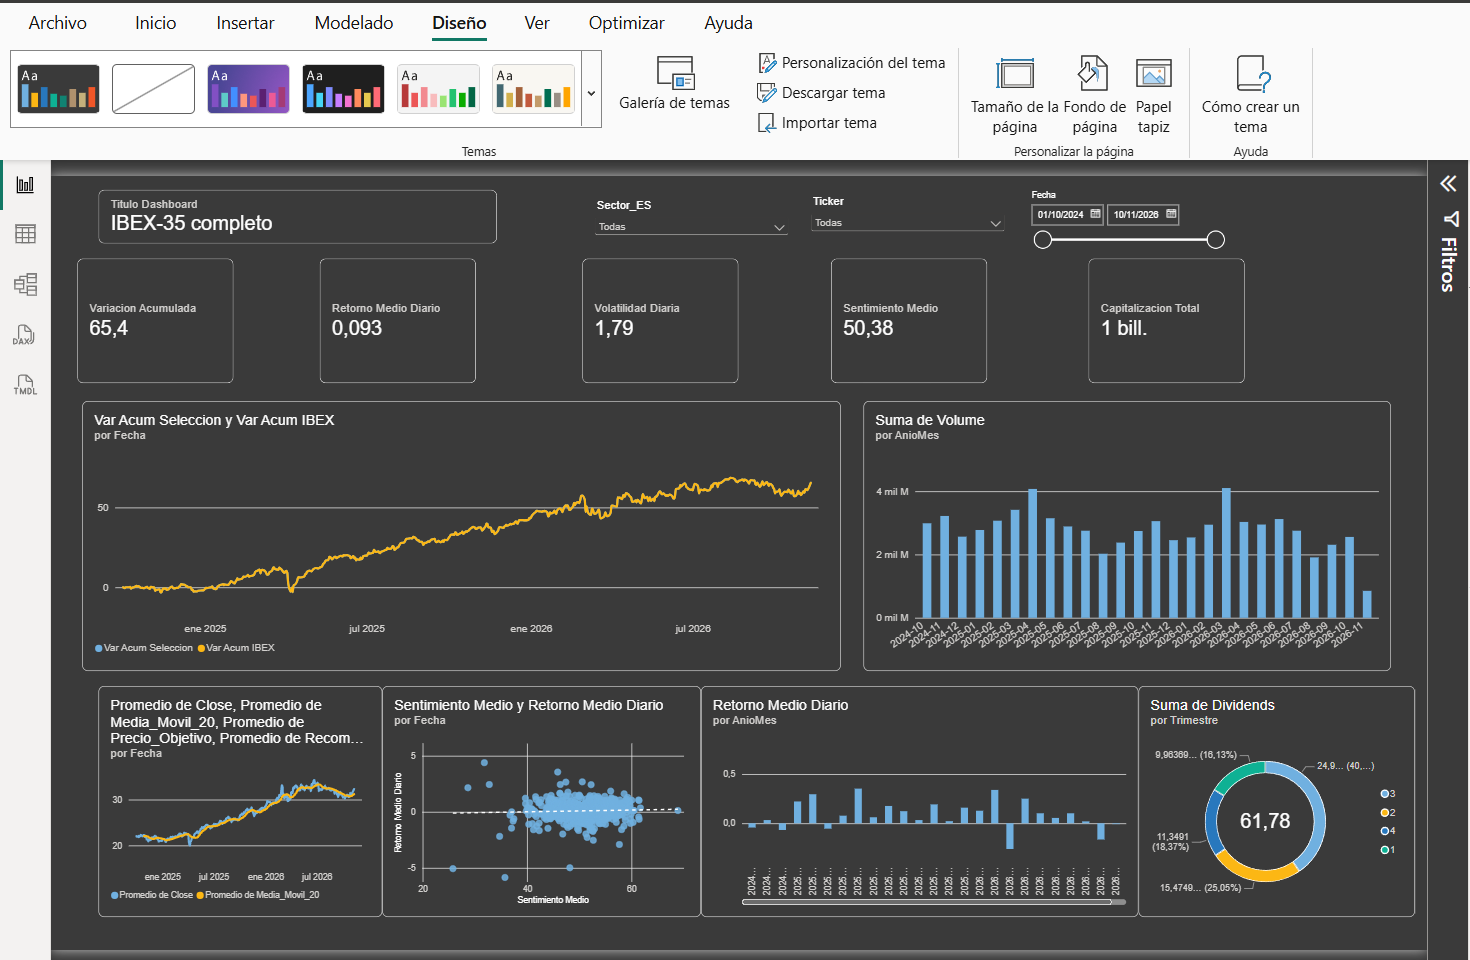

The page's visual inventory and layout, read from the dashboard file:
{"tool":"powerbi","page":{"name":"Dashboard","canvas":[1920,1080],"ordinal":3},"visuals":[{"type":"slicer","fields":{"Values":["Empresa.Sector_ES"]},"box":[753.5,31.4,280.8,68],"z":0},{"type":"slicer","fields":{"Values":["Empresa.Ticker"]},"box":[1055.2,26.2,280.8,80.2],"z":1000},{"type":"slicer","fields":{"Values":["Fecha.Fecha"]},"box":[1360.5,19.2,280.8,95.9],"z":2000},{"type":"cardVisual","fields":{"Data":["Hechos.Variacion Acumulada"]},"box":[36.6,115.1,218,174.4],"z":3000},{"type":"cardVisual","fields":{"Data":["Hechos.Retorno Medio Diario"]},"box":[375,115.1,218,174.4],"z":4000},{"type":"cardVisual","fields":{"Data":["Hechos.Volatilidad Diaria"]},"box":[741.3,115.1,218,174.4],"z":5000},{"type":"cardVisual","fields":{"Data":["Hechos.Sentimiento Medio"]},"box":[1088.4,115.1,218,174.4],"z":6000},{"type":"cardVisual","fields":{"Data":["Hechos.Capitalizacion Total"]},"box":[1447.7,115.1,218,174.4],"z":7000},{"type":"lineChart","fields":{"Category":["Fecha.Fecha"],"Y":["Hechos.Var Acum Seleccion","Hechos.Var Acum IBEX"]},"box":[43.6,314,1058.7,376.7],"z":8000},{"type":"clusteredColumnChart","fields":{"Category":["Fecha.AnioMes"],"Y":["Sum(Hechos.Volume)"]},"box":[1133.7,314,736,376.7],"z":9000},{"type":"lineChart","fields":{"Category":["Fecha.Fecha"],"Y":["Avg(Hechos.Close)","Avg(Hechos.Media_Movil_20)"]},"box":[66.3,711.6,395.9,322.7],"z":10000},{"type":"scatterChart","fields":{"Category":["Fecha.Fecha"],"X":["Hechos.Sentimiento Medio"],"Y":["Hechos.Retorno Medio Diario"]},"box":[462.2,711.6,444.8,322.7],"z":11000},{"type":"clusteredColumnChart","fields":{"Category":["Fecha.AnioMes"],"Y":["Hechos.Retorno Medio Diario"]},"box":[907,711.6,610.5,322.7],"z":12000},{"type":"donutChart","fields":{"Category":["Fecha.Trimestre"],"Y":["Sum(Hechos.Dividends)"]},"box":[1517.4,711.6,385.5,322.7],"z":13000},{"type":"cardVisual","fields":{"Data":["Hechos.Titulo Dashboard"]},"box":[66.3,19.2,556.4,75],"z":13001}]}

Visuals, with their boxes on the page's 1920x1080 design canvas (x1, y1, x2, y2). These are canvas units, not pixel positions in the 1470x960 screenshot, which may show the page scaled, cropped or inside an application window:
slicer - Empresa.Sector_ES: rect(754, 31, 1034, 99)
slicer - Empresa.Ticker: rect(1055, 26, 1336, 106)
slicer - Fecha.Fecha: rect(1360, 19, 1641, 115)
cardVisual - Hechos.Variacion Acumulada: rect(37, 115, 255, 290)
cardVisual - Hechos.Retorno Medio Diario: rect(375, 115, 593, 290)
cardVisual - Hechos.Volatilidad Diaria: rect(741, 115, 959, 290)
cardVisual - Hechos.Sentimiento Medio: rect(1088, 115, 1306, 290)
cardVisual - Hechos.Capitalizacion Total: rect(1448, 115, 1666, 290)
lineChart - Fecha.Fecha x Hechos.Var Acum Seleccion: rect(44, 314, 1102, 691)
clusteredColumnChart - Fecha.AnioMes x Sum(Hechos.Volume): rect(1134, 314, 1870, 691)
lineChart - Fecha.Fecha x Avg(Hechos.Close): rect(66, 712, 462, 1034)
scatterChart - Fecha.Fecha x Hechos.Sentimiento Medio: rect(462, 712, 907, 1034)
clusteredColumnChart - Fecha.AnioMes x Hechos.Retorno Medio Diario: rect(907, 712, 1518, 1034)
donutChart - Fecha.Trimestre x Sum(Hechos.Dividends): rect(1517, 712, 1903, 1034)
cardVisual - Hechos.Titulo Dashboard: rect(66, 19, 623, 94)
